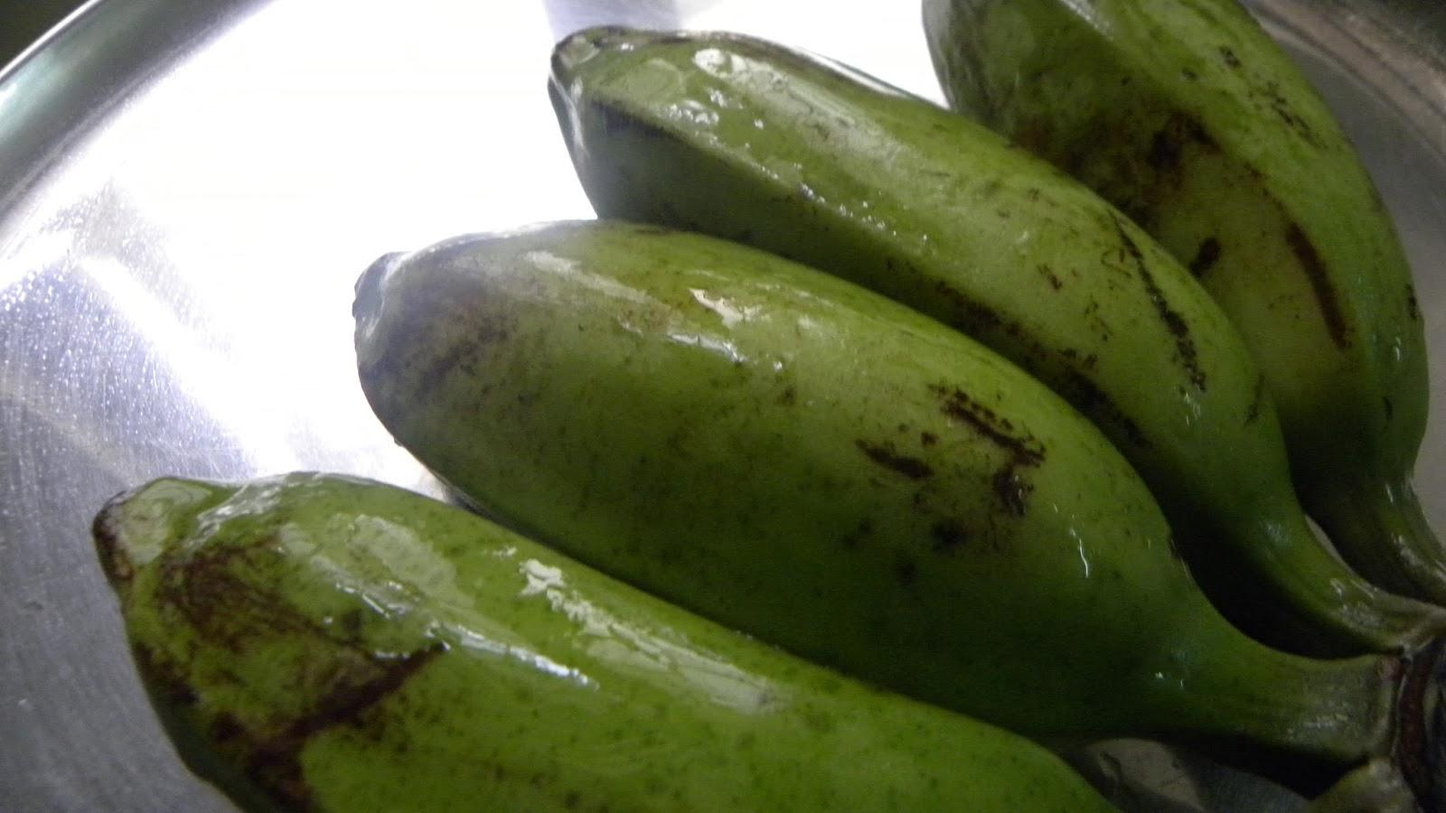Banana Unripe: (79, 7, 1446, 813)
